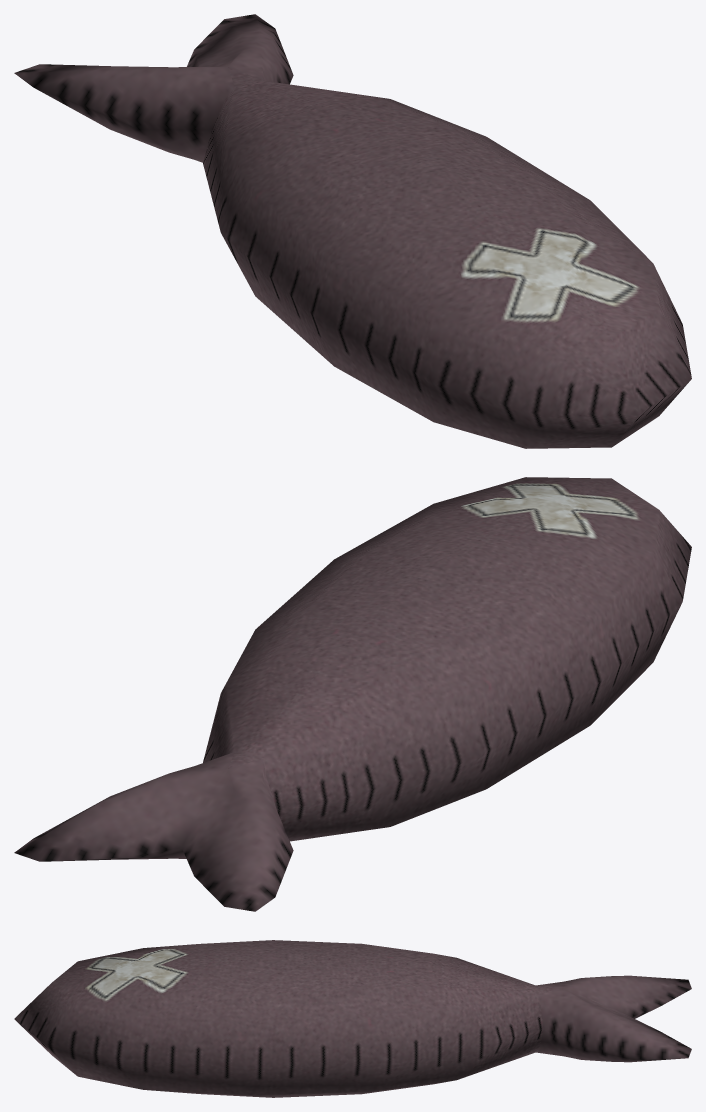
The model's file is DecoyTorpedo.fbx.
3 views of the same model, one above another, from view 1: azimuth 30°, elevation 25°; view 2: azimuth 150°, elevation 25°; view 3: azimuth 270°, elevation 25° (orthographic). The views are drawn at different scales.
Visible parts, largest first — view 1: DecoyTorpedo; view 2: DecoyTorpedo; view 3: DecoyTorpedo.
Part boxes in pixels (x1,y1,x2,y2): DecoyTorpedo: [14, 14, 691, 448]; DecoyTorpedo: [14, 477, 691, 911]; DecoyTorpedo: [14, 940, 691, 1097].
Size of the model in its own units: 19.65 by 12.41 by 59.78.
Materials: 1 (1 with a texture image).
